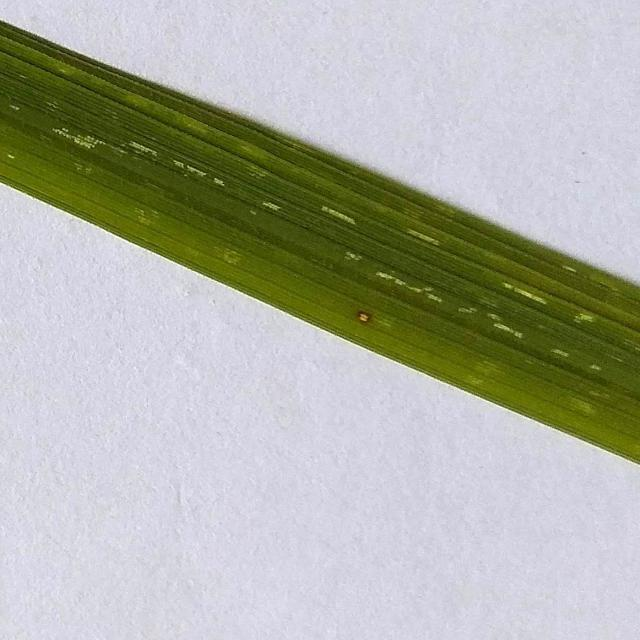Blast: (352, 308, 389, 331)
